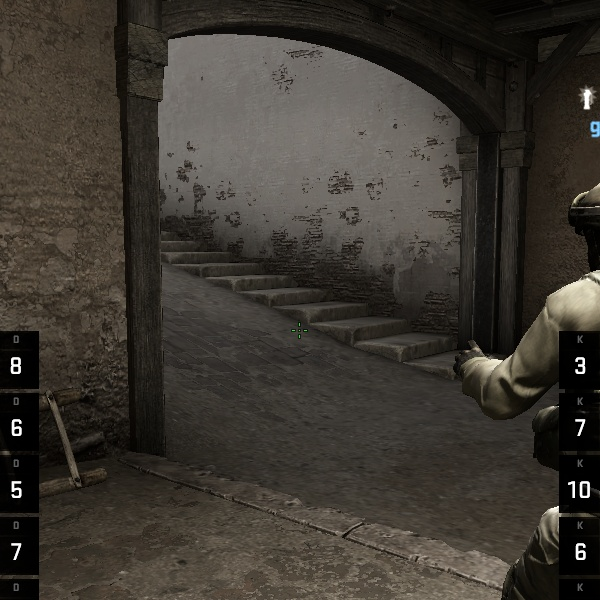ct_body: (438, 123, 593, 598)
